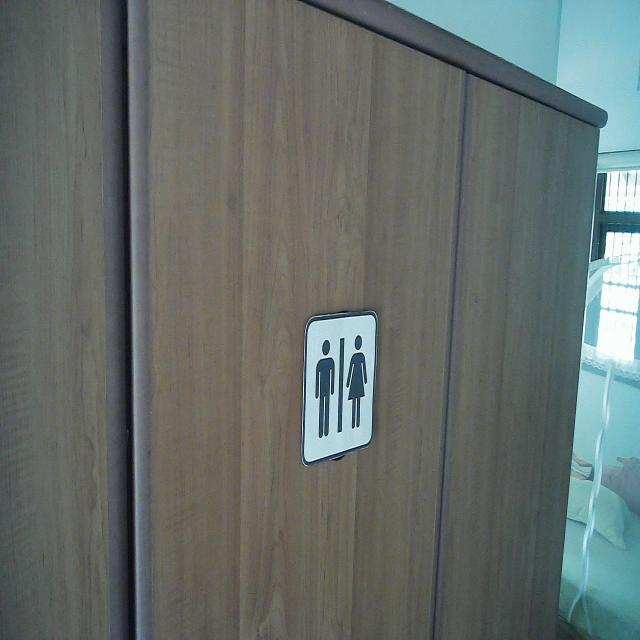restroom: (300, 309, 379, 472)
